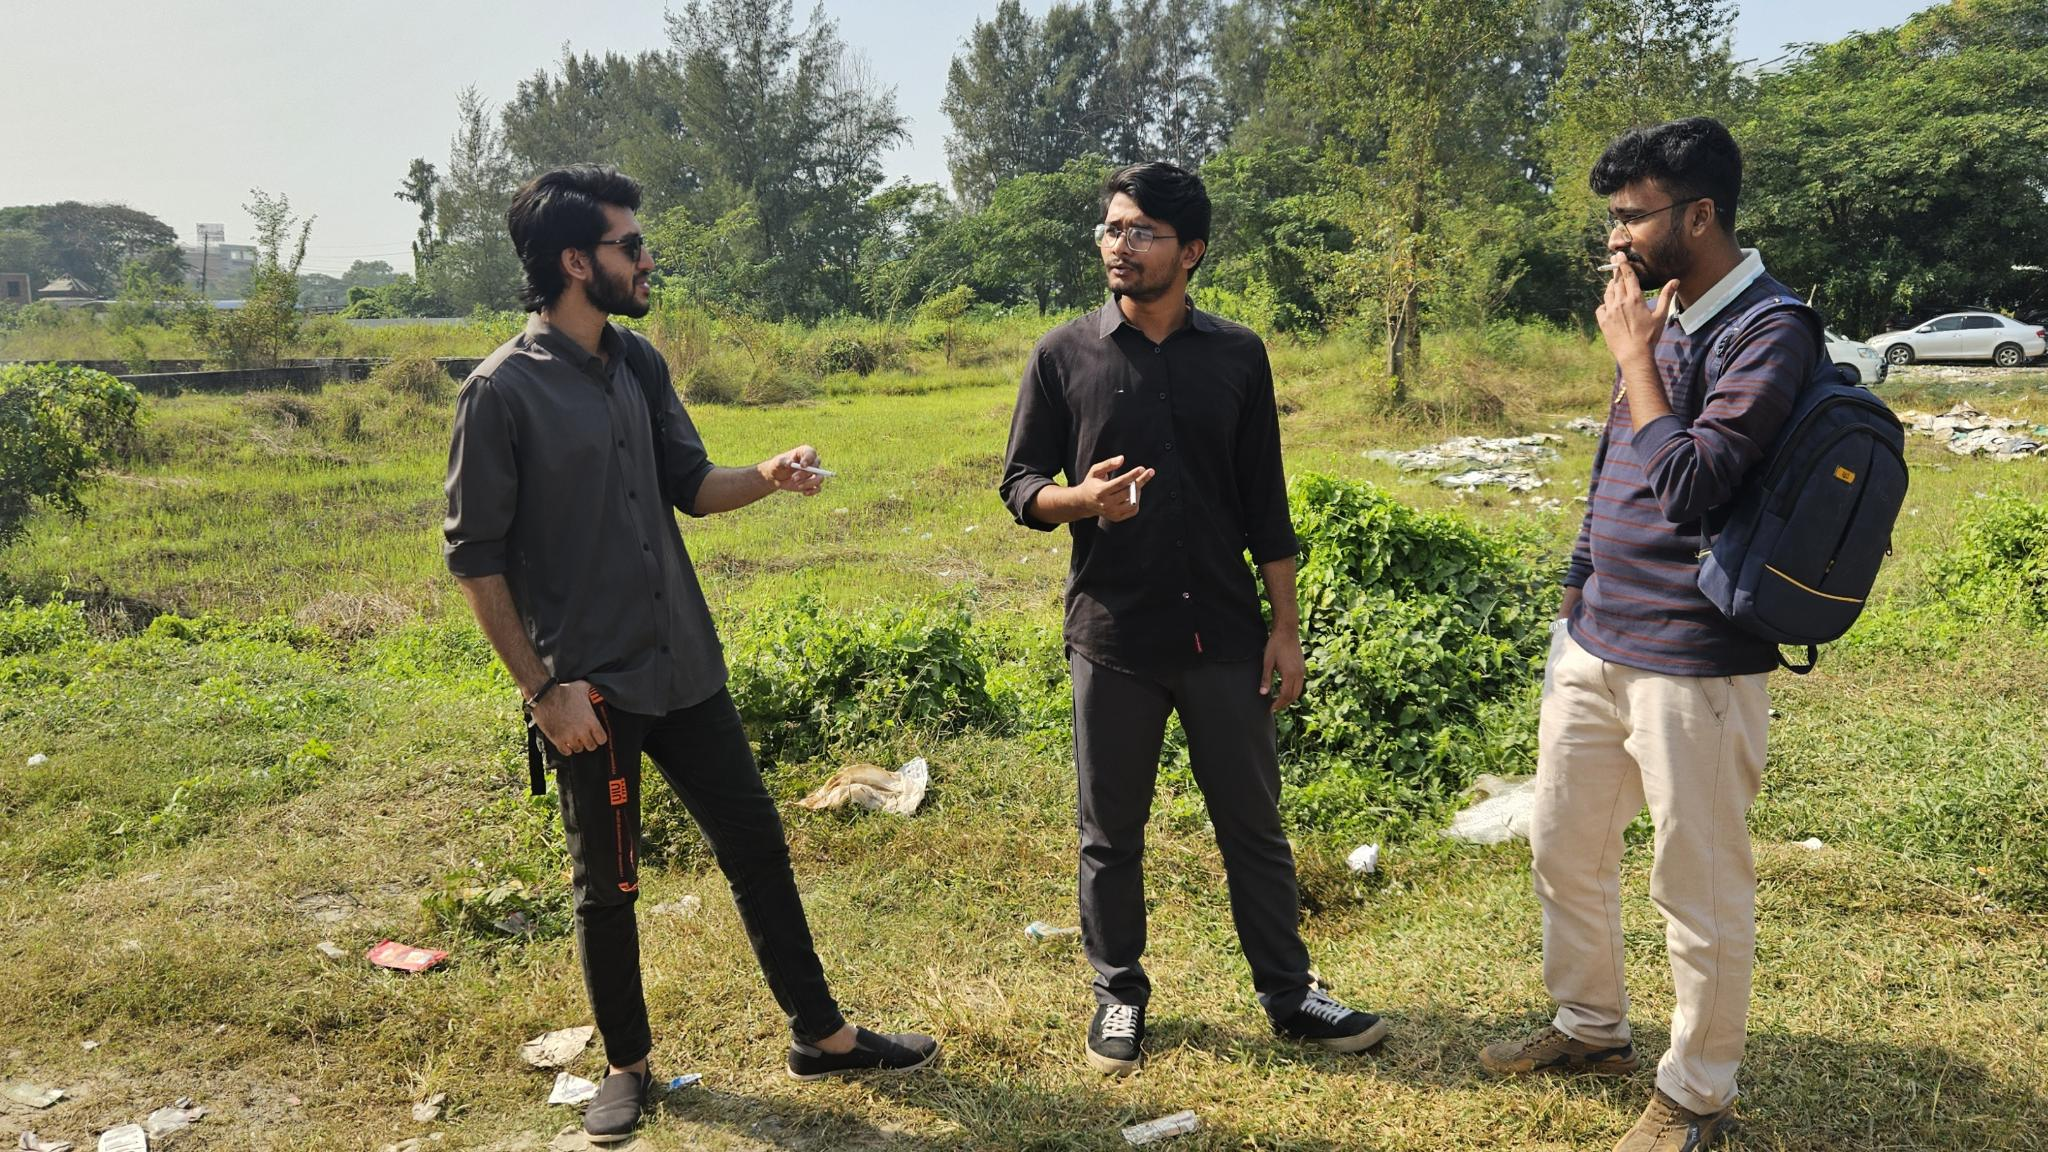cigarette: (789, 460, 840, 480), (1595, 259, 1634, 273), (1127, 480, 1139, 509)
smoker: (444, 166, 940, 1145), (1478, 117, 1910, 1152), (999, 162, 1387, 1076)
